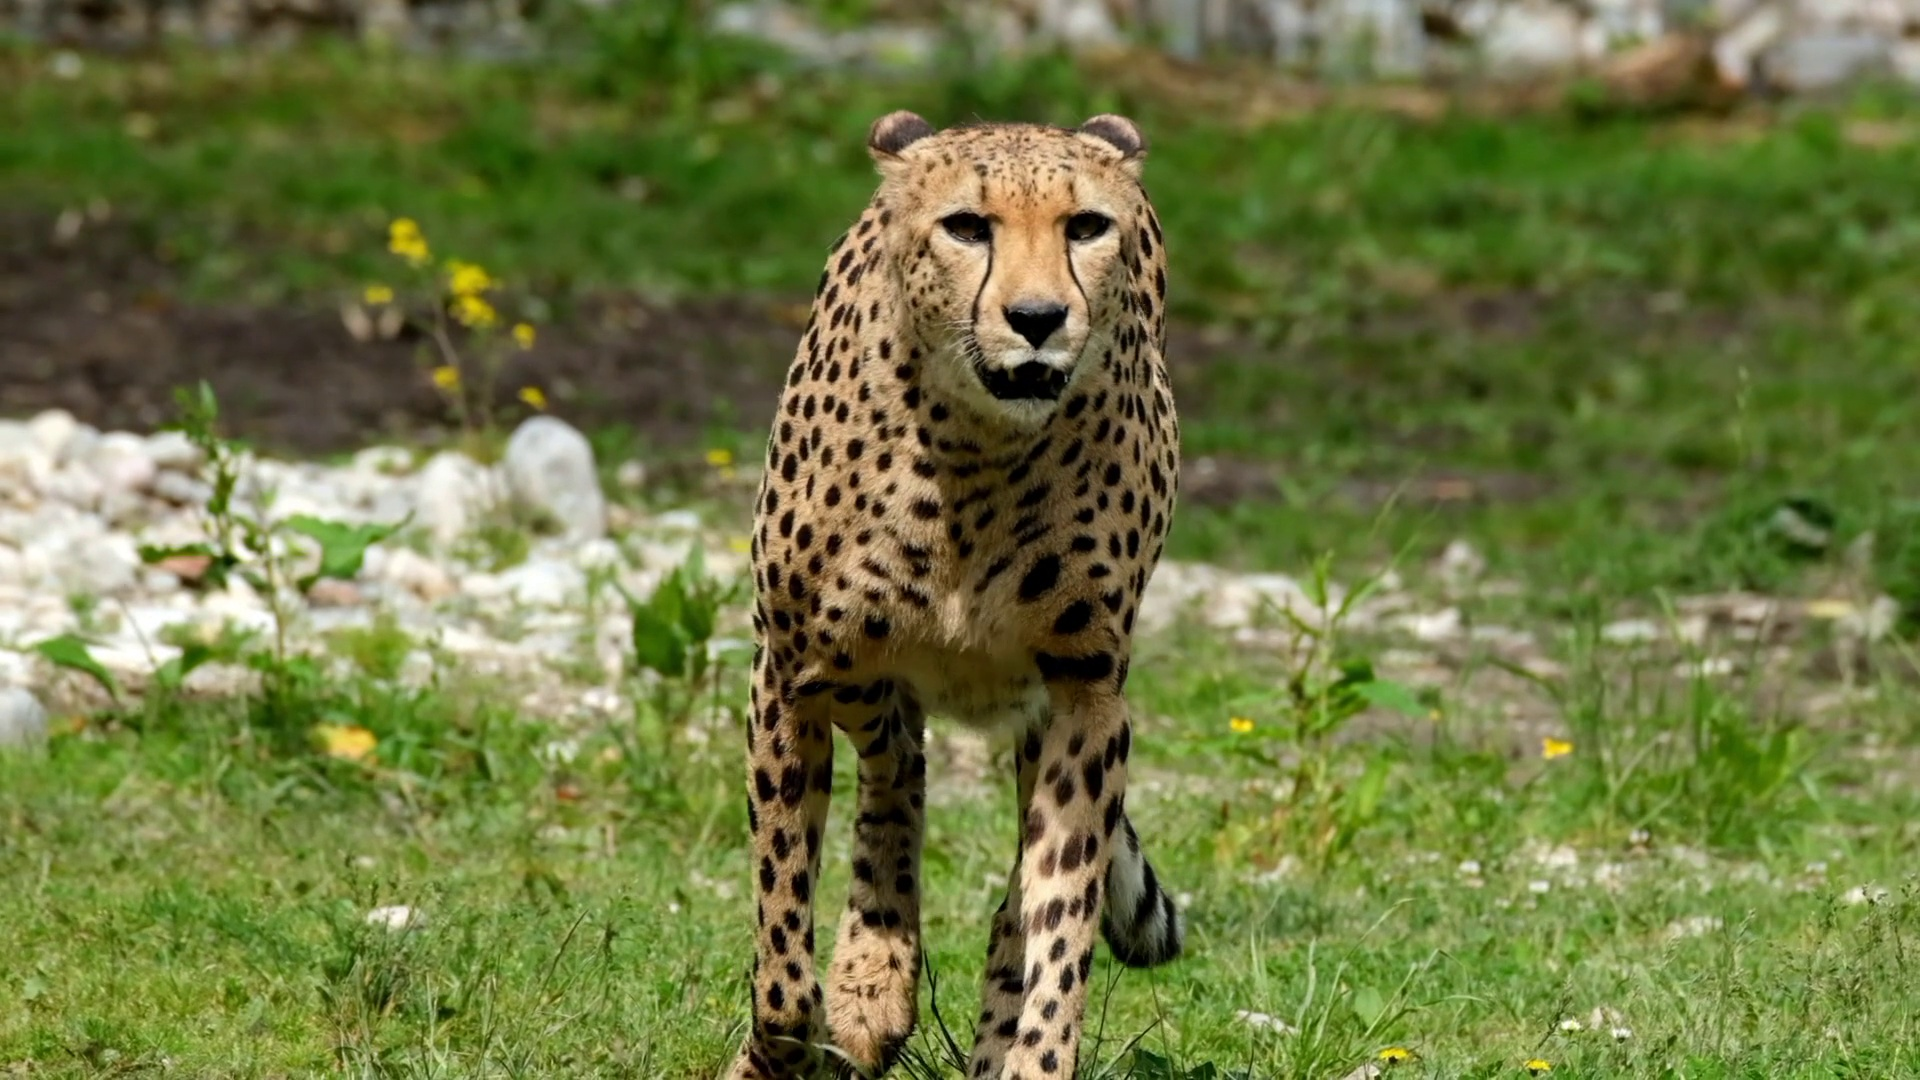Cheetah: (713, 105, 1189, 1080)
